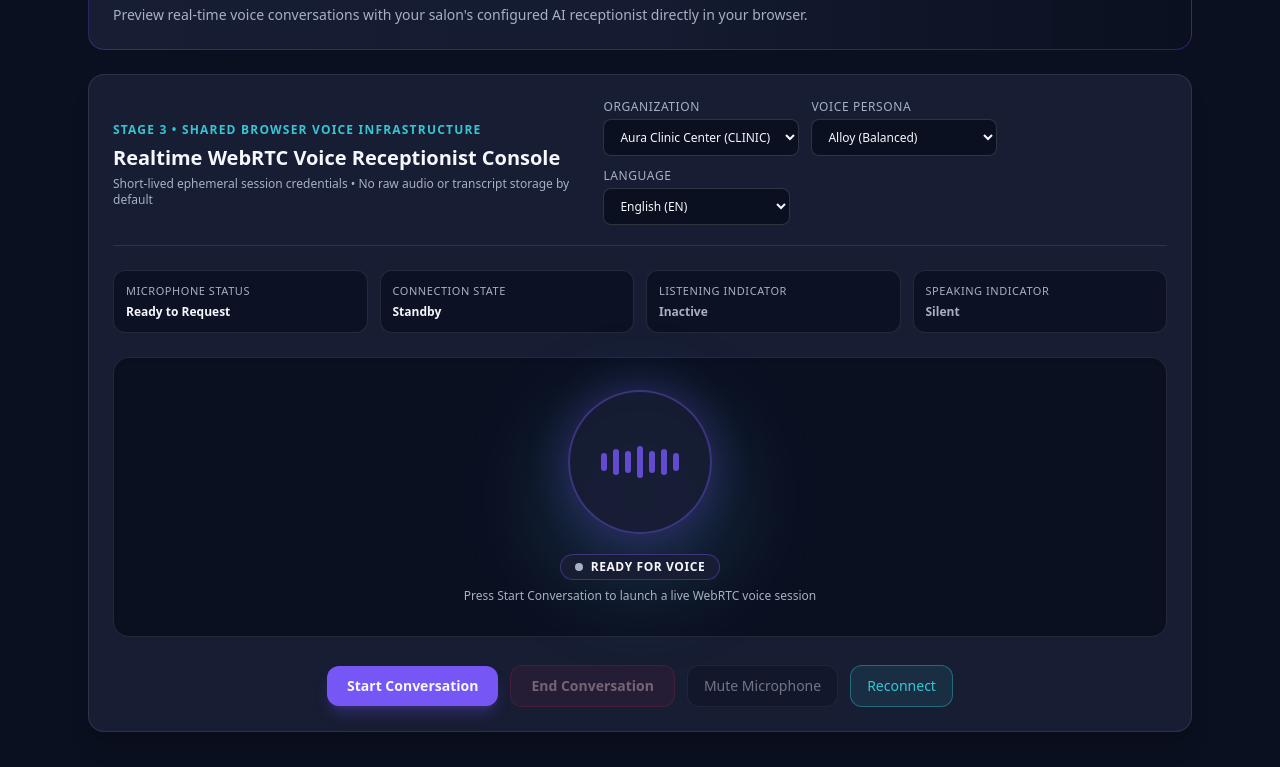
Test: Stage 3 Shared Browser Voice Infrastructure › 5. cleans up microphone tracks and closes RTCPeerConnection on user disconnect
The image size is (1280, 767).
(page scrolled)
Click the button with test id "start-conversation-button" at (413, 686), box 327,666 -> 498,706
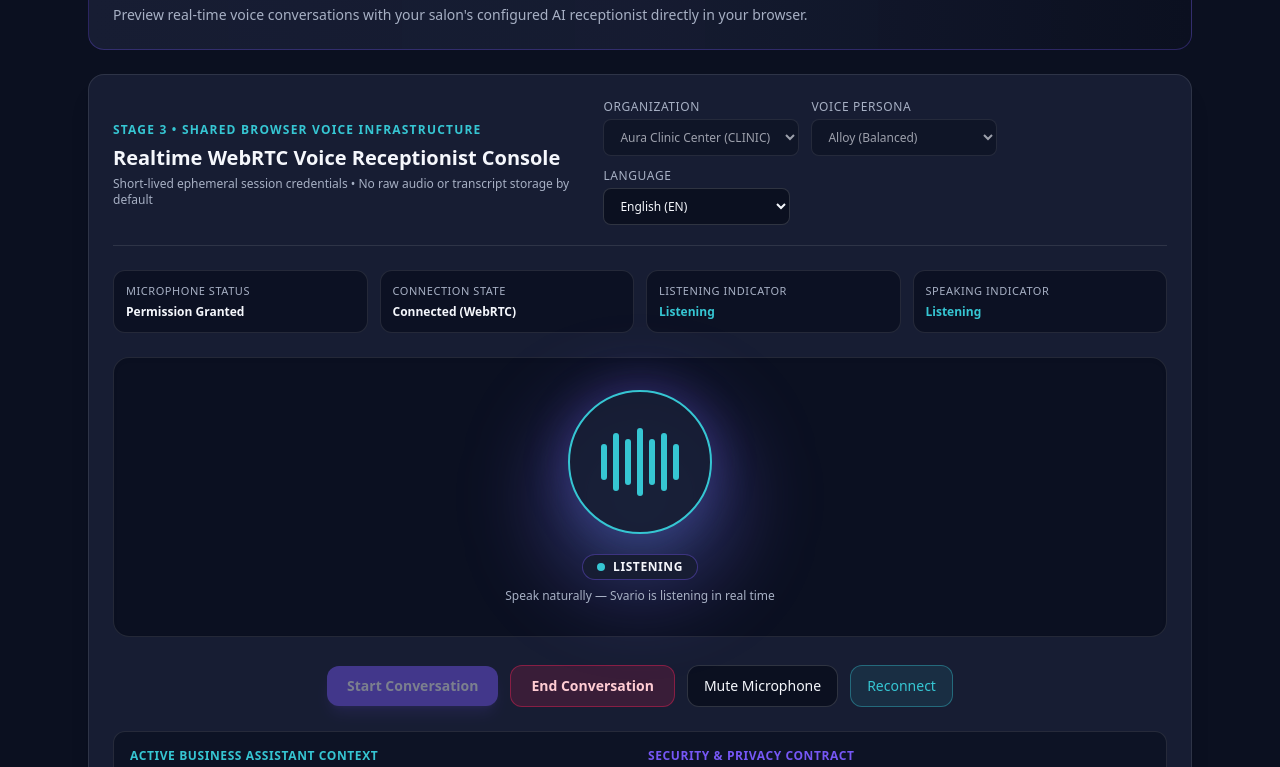
Check: the element with test id "voice-orb-waveform" has attribute data-voice-state="listening", box 113,356 -> 1167,636
# Verify mute/unmute toggles track.enabled
Click the button with test id "mute-unmute-button" at (762, 686), box 687,664 -> 838,706
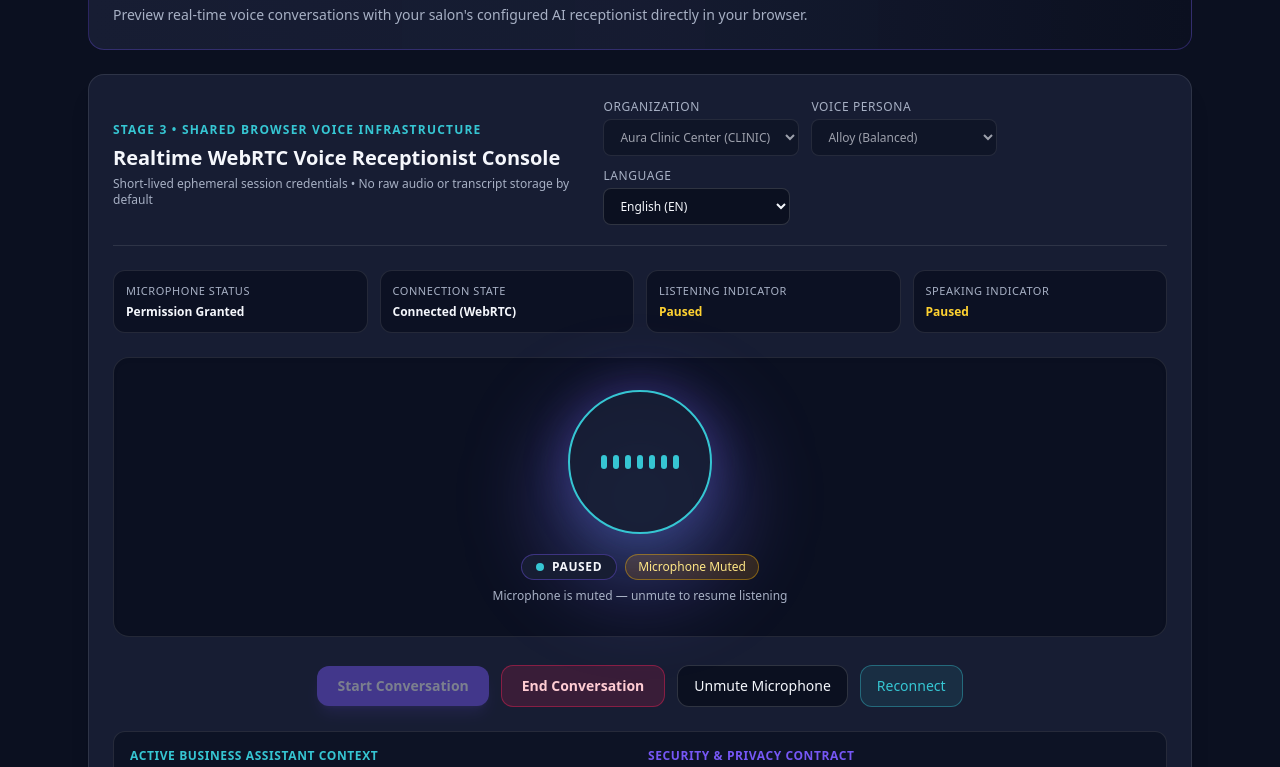
Check: the text "Microphone Muted" is shown, box 625,554 -> 759,580
Click the button with test id "end-conversation-button" at (583, 686), box 501,664 -> 665,706
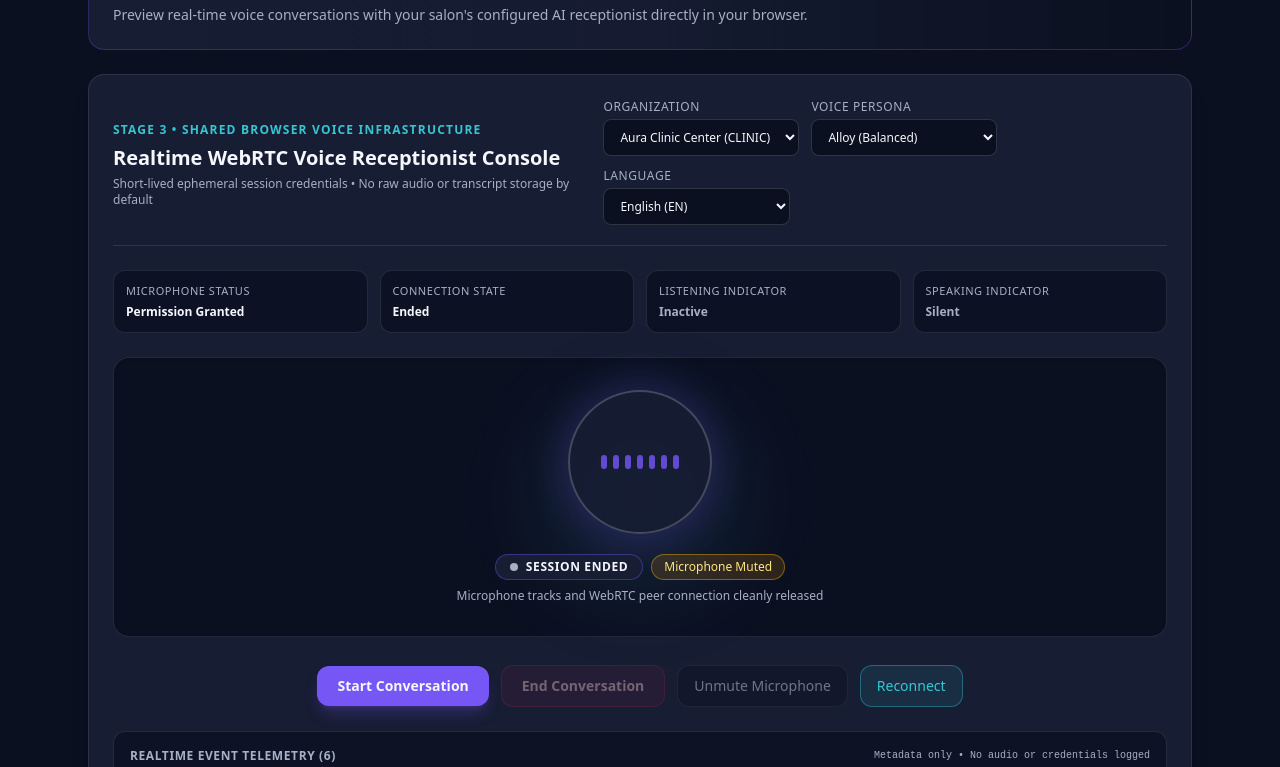
Check: the element with test id "voice-orb-waveform" has attribute data-voice-state="ended", box 113,356 -> 1167,636
